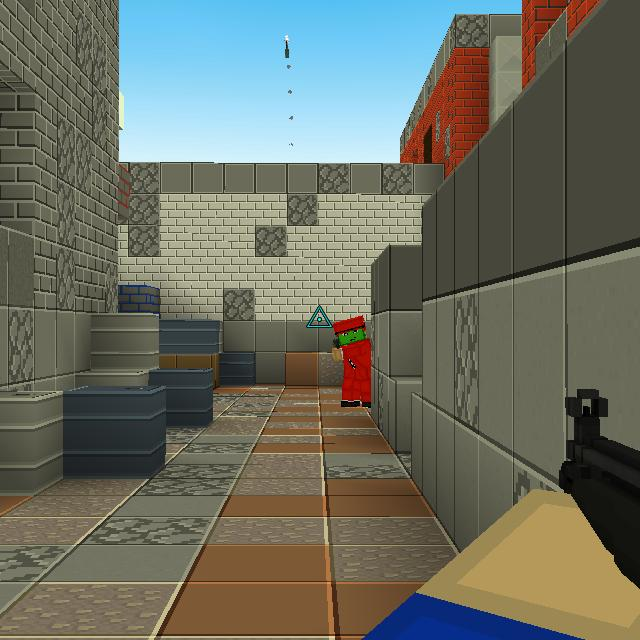enemy: (331, 314, 373, 407)
